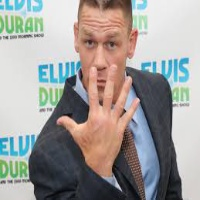ring: (112, 73, 132, 122)
